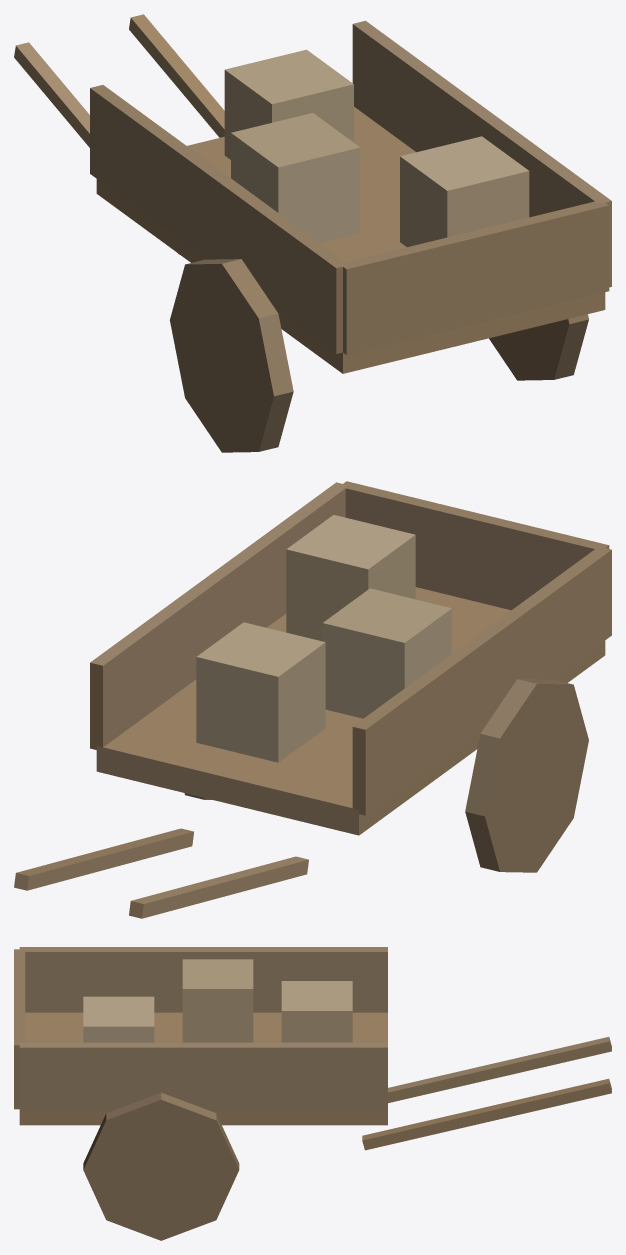
File: cart.glb
3 views of the same model, one above another, from view 1: azimuth 30°, elevation 25°; view 2: azimuth 150°, elevation 25°; view 3: azimuth 270°, elevation 25° (orthographic). The views are drawn at different scales.
Parts seen in each view (by area): view 1: cart2; view 2: cart2; view 3: cart2.
Boxes of the visible parts, box(x1,y1,x2,y2) form: cart2: box(14, 14, 611, 452); cart2: box(14, 481, 611, 918); cart2: box(14, 947, 611, 1240).
Bounding box in the file's own units: 1.92 × 1.5 × 4.22.
